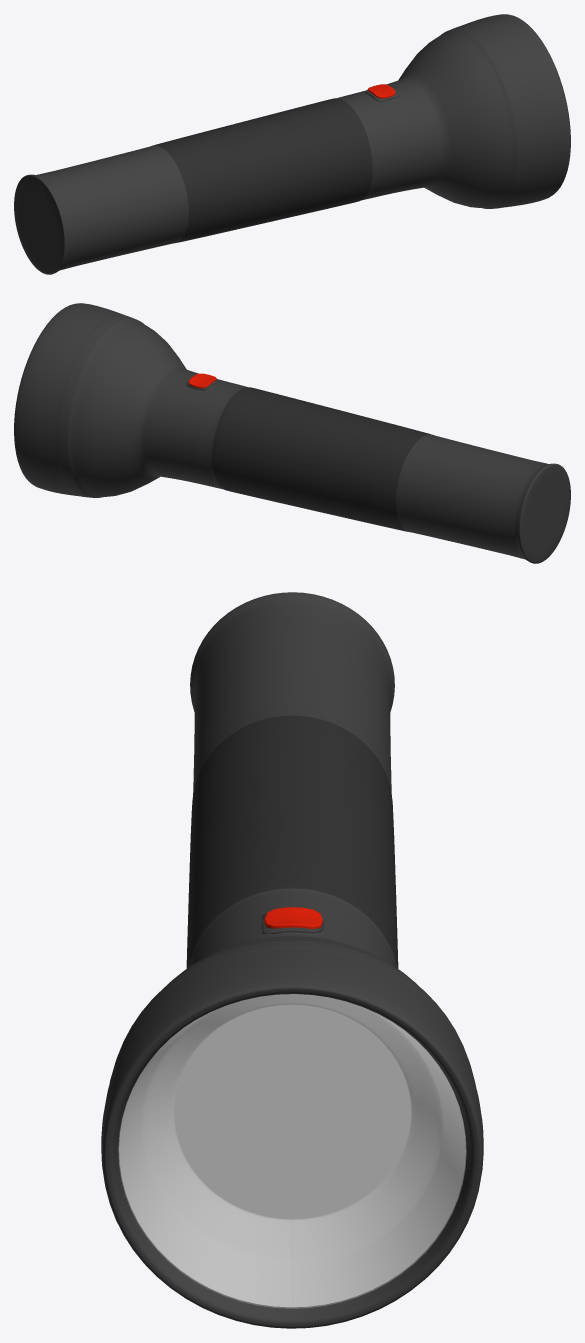
Rendered from flashlight.glb.
3 renders of one model, top to bottom at view 1: azimuth 30°, elevation 25°; view 2: azimuth 150°, elevation 25°; view 3: azimuth 270°, elevation 25°, orthographic. The views are drawn at different scales.
Parts seen in each view (by area): view 1: Cylinder; view 2: Cylinder; view 3: Cylinder, Plane.
Boxes of the visible parts, x1,y1,x2,y2 form: Cylinder: [14, 14, 570, 274]; Cylinder: [14, 303, 570, 563]; Cylinder: [101, 592, 483, 1328]; Plane: [118, 994, 466, 1308].
Bounding box in the file's own units: 1152 × 394 × 394.
Materials: 5 (1 with a texture image).
